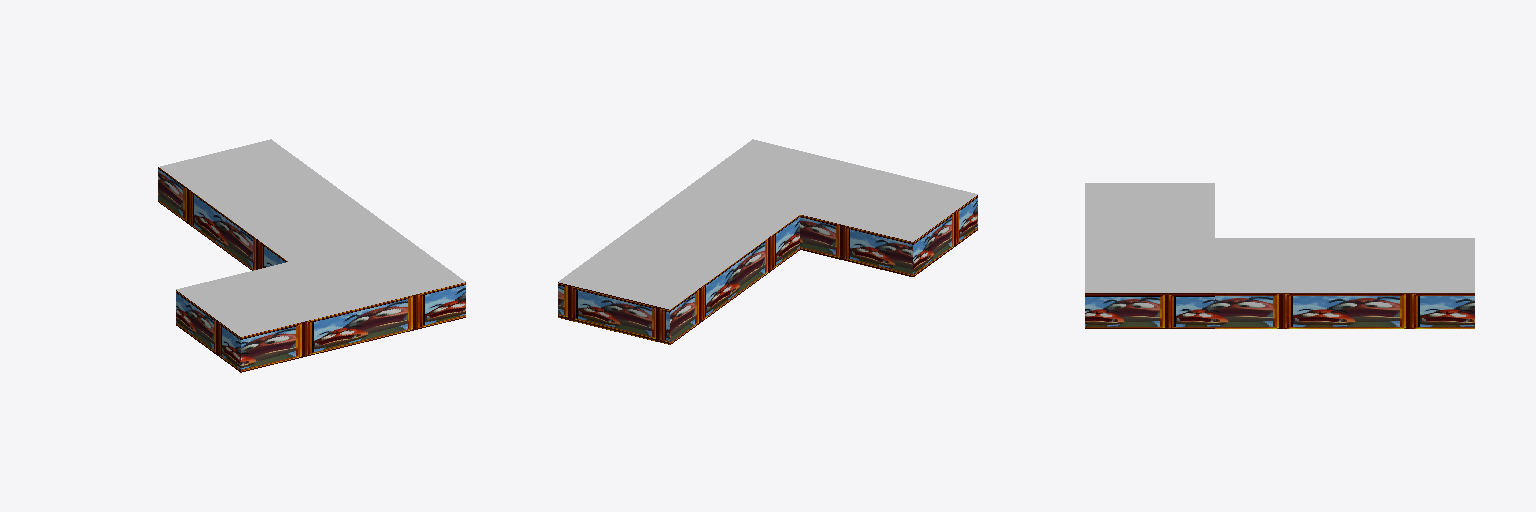
3 renders of one model, left to right at view 1: azimuth 30°, elevation 25°; view 2: azimuth 150°, elevation 25°; view 3: azimuth 270°, elevation 25°, orthographic.
Visible parts, largest first — view 1: Start; view 2: Start; view 3: Start.
Boxes of the visible parts, x1,y1,x2,y2 form: Start: [158, 139, 465, 372]; Start: [558, 139, 977, 344]; Start: [1085, 183, 1474, 328].
Bounding box in the file's own units: 2 × 0.3 × 3.
Materials: 2 (1 with a texture image).